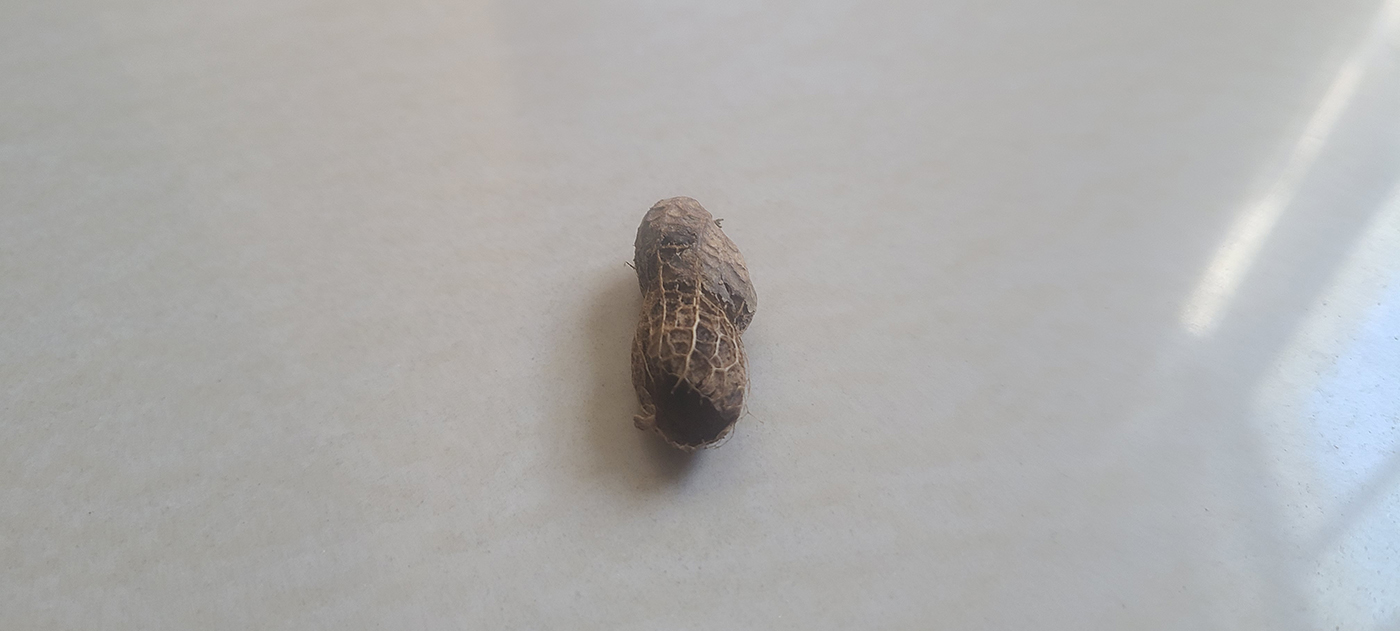l: (629, 195, 759, 447)
